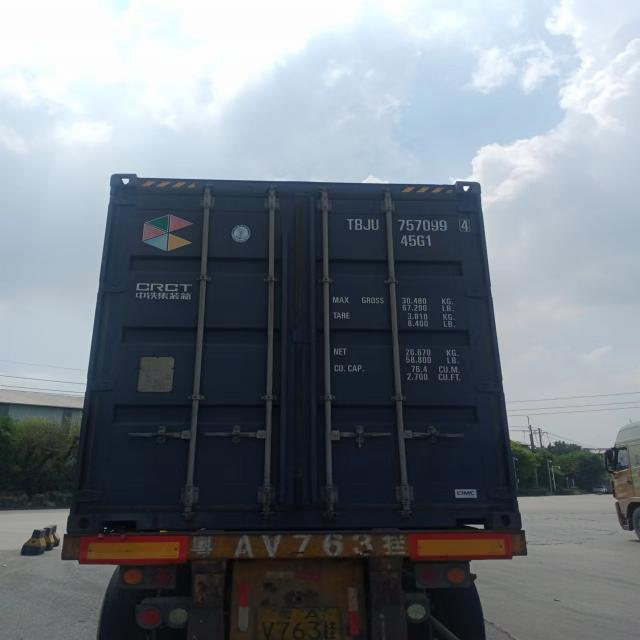seal: (350, 419, 371, 453)
